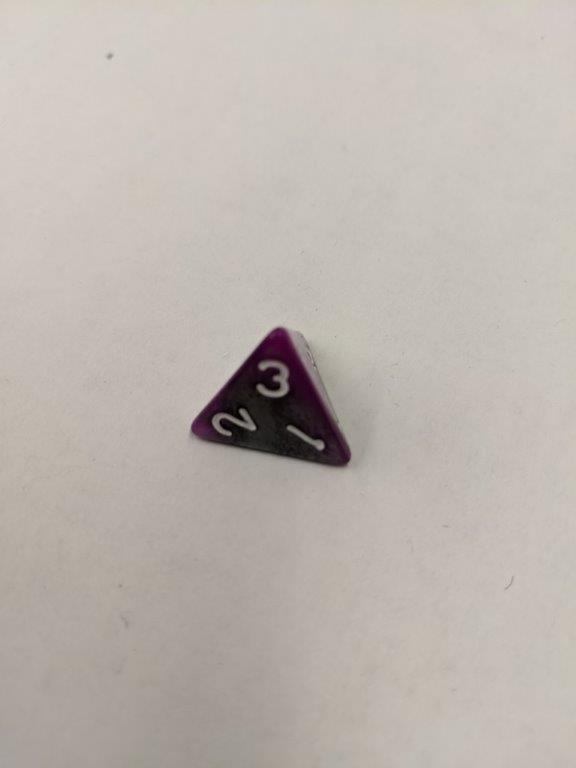d4-3: (184, 325, 355, 478)
